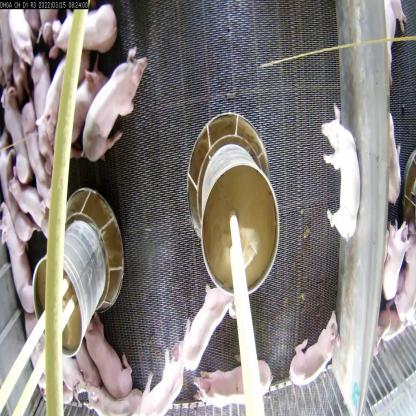Pig: (316, 93, 368, 246), (80, 59, 147, 166), (3, 166, 65, 238), (180, 274, 226, 371), (287, 301, 332, 398), (44, 53, 80, 170), (202, 356, 272, 416), (21, 102, 57, 213), (58, 4, 121, 52), (80, 300, 118, 377), (0, 208, 27, 316), (140, 344, 180, 415), (0, 82, 29, 168), (387, 206, 409, 312), (30, 56, 53, 128), (90, 396, 144, 415)
